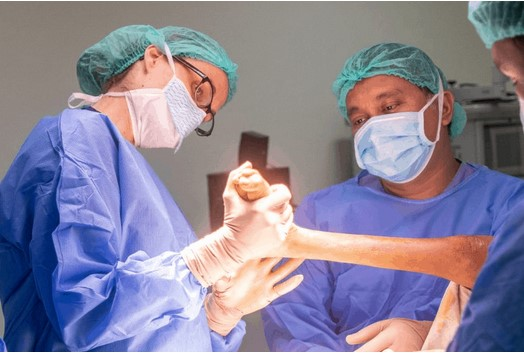face_with_mask: (83, 24, 236, 154), (335, 41, 469, 188)
